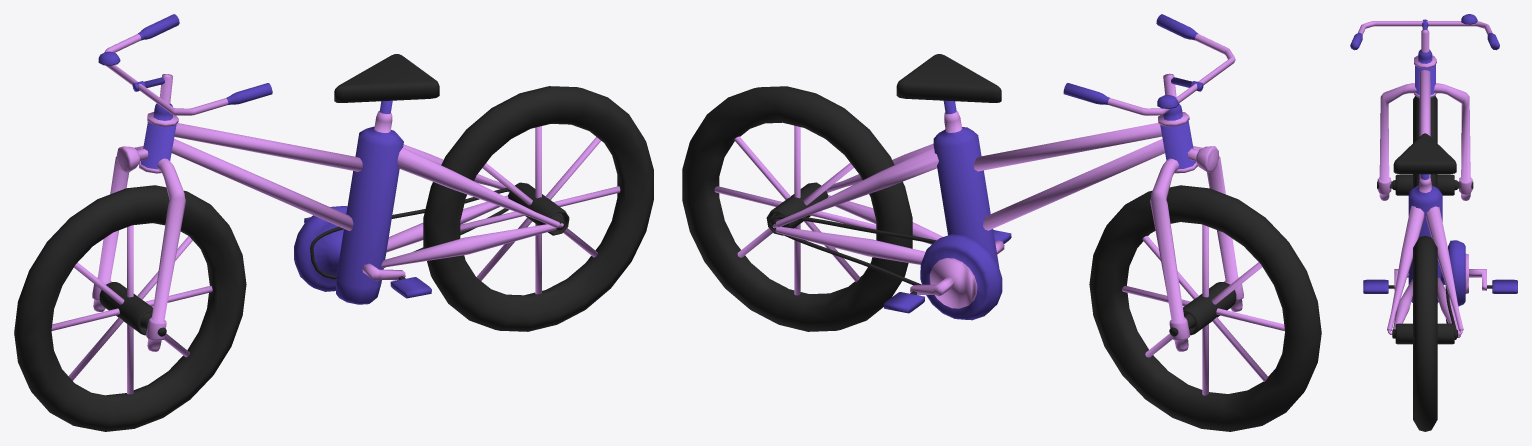
File: Bike.fbx
The picture shows the model from 3 angles, left to right: view 1: azimuth 30°, elevation 25°; view 2: azimuth 150°, elevation 25°; view 3: azimuth 270°, elevation 25°; orthographic projection. The views are drawn at different scales.
Visible parts, largest first — view 1: Cylinder.033; view 2: Cylinder.033; view 3: Cylinder.033.
Part boxes in pixels (x1=…): Cylinder.033: x1=14, y1=14, x2=653, y2=431; Cylinder.033: x1=682, y1=14, x2=1321, y2=431; Cylinder.033: x1=1350, y1=14, x2=1517, y2=431.
Size of the model in its own units: 18.47 by 9.91 by 5.66.
